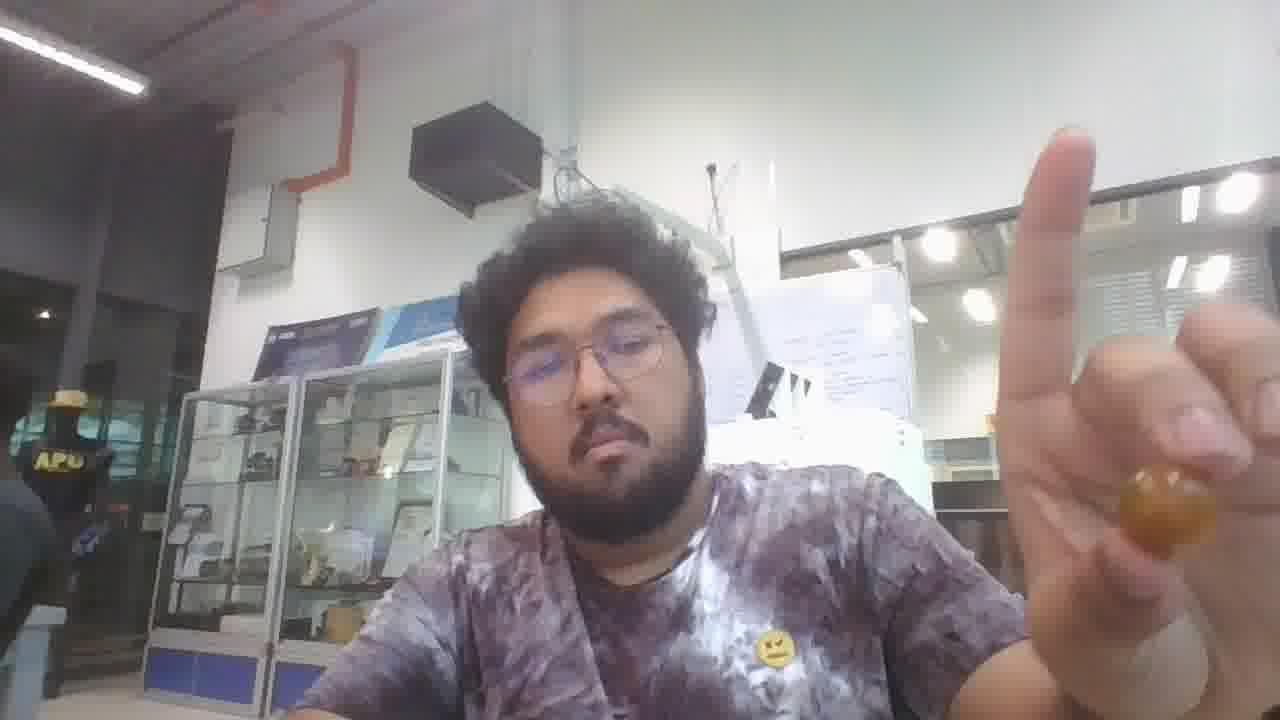yellow_cherry_tomato: (1118, 464, 1215, 558)
